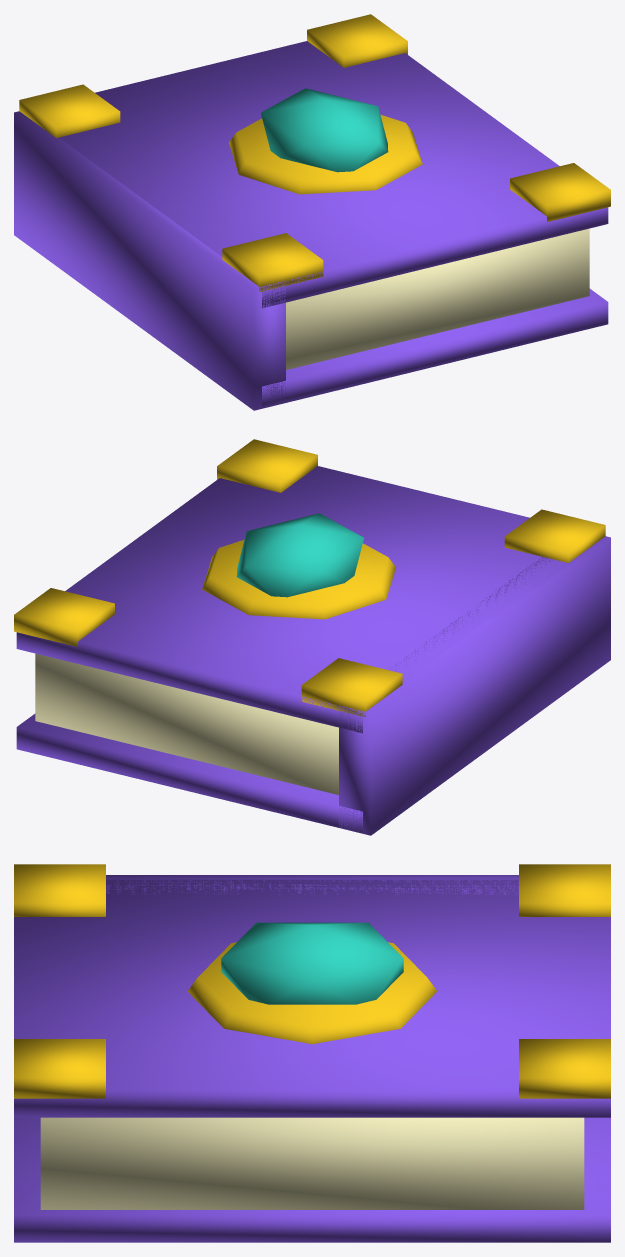
The model's file is w4_05_spellbook.glb.
3 renders of one model, top to bottom at view 1: azimuth 30°, elevation 25°; view 2: azimuth 150°, elevation 25°; view 3: azimuth 270°, elevation 25°, orthographic. The views are drawn at different scales.
Parts seen in each view (by area): view 1: W4_05_Spellbook; view 2: W4_05_Spellbook; view 3: W4_05_Spellbook.
Part boxes in pixels (x1,y1,x2,y2): W4_05_Spellbook: (14, 14, 610, 410); W4_05_Spellbook: (14, 439, 610, 835); W4_05_Spellbook: (14, 864, 610, 1242).
Size of the model in its own units: 1.34 by 0.63 by 1.56.
1 material, 1 textured.
